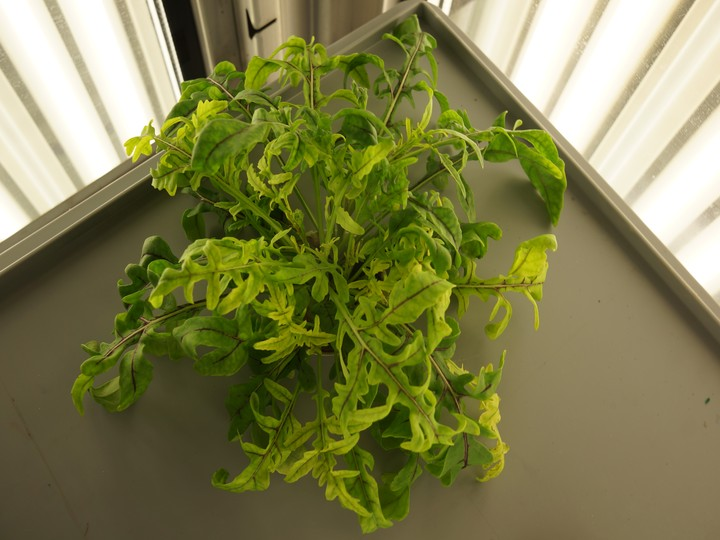roquette_sauvage_red_veined: (58, 5, 572, 540)
